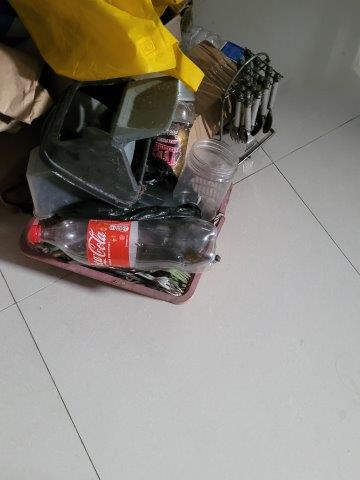botolplastik: (29, 217, 217, 269), (150, 104, 193, 180)
